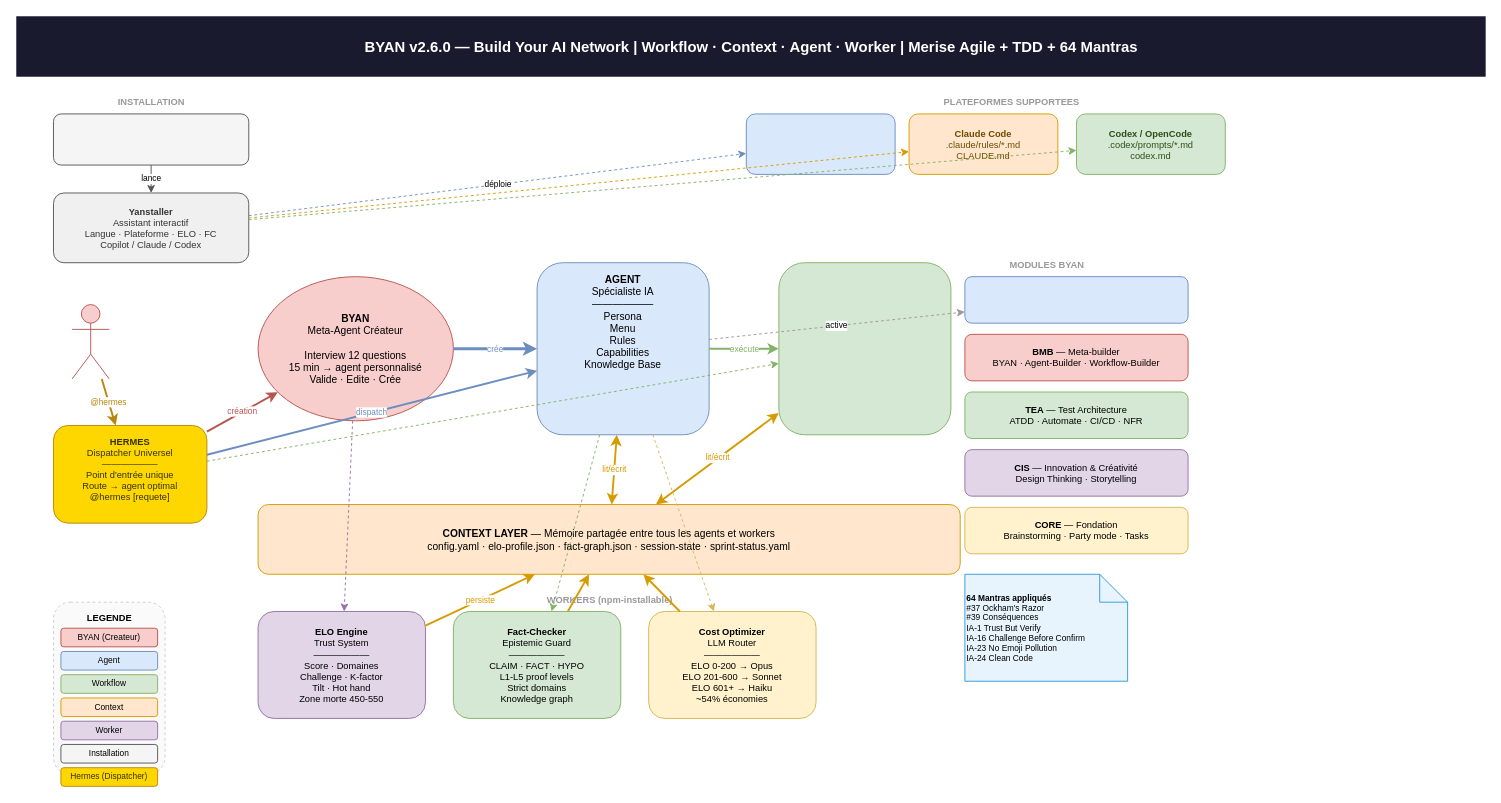
The diagram is 1501 pixels wide and 803 high, and some of its shapes have lost their labels. Each missing label, with the centre of its shape:
BMM — SDLC complet Analyst · PM · Architect · Dev · SM · QA: (1076,299)
GitHub Copilot CLI .github/agents/*.md @bmad-agent-*: (820,143)
npx create-byan-agent npm install -g create-byan-agent: (151,139)
USER: (90,341)
WORKFLOW Séquence guidée —————— Steps Conditions Outputs Validation Multi-phases: (864,348)
